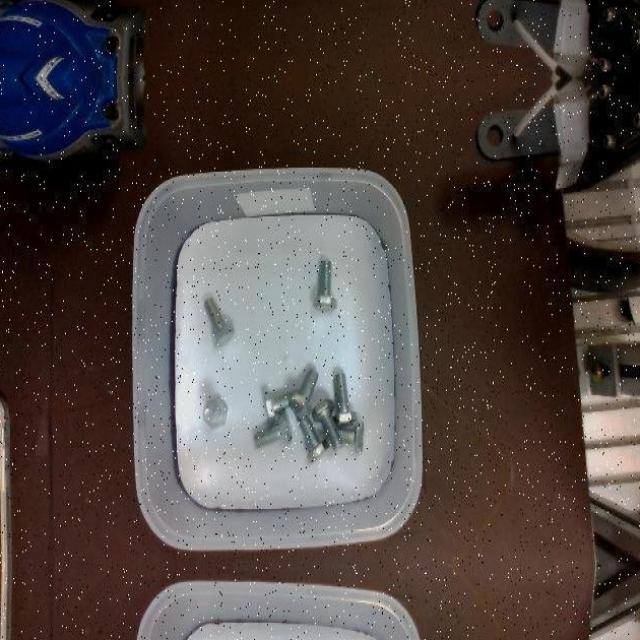screw: (312, 398, 344, 453), (203, 297, 235, 347), (288, 368, 319, 418), (254, 412, 293, 446), (333, 372, 358, 424), (314, 260, 337, 311), (203, 394, 227, 428)
